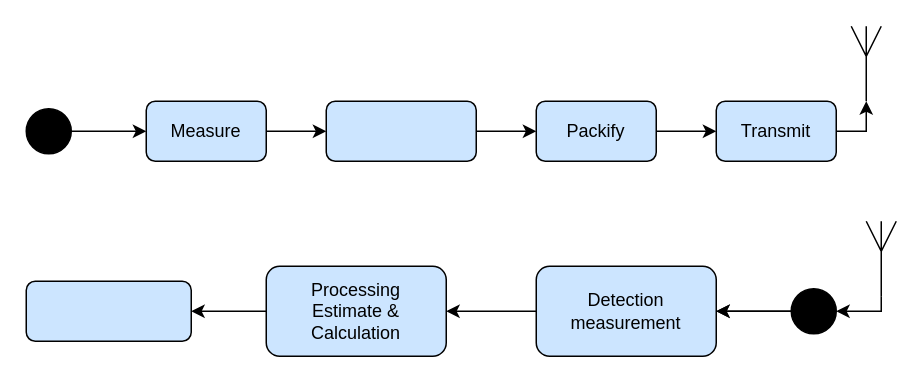
This 923x383 diagram has some shape labels left out. Here are the shapes that lost their labels. From the top down, the centre of each, then its label:
point (400, 130): Acquire data
point (108, 310): Send to biosystem
